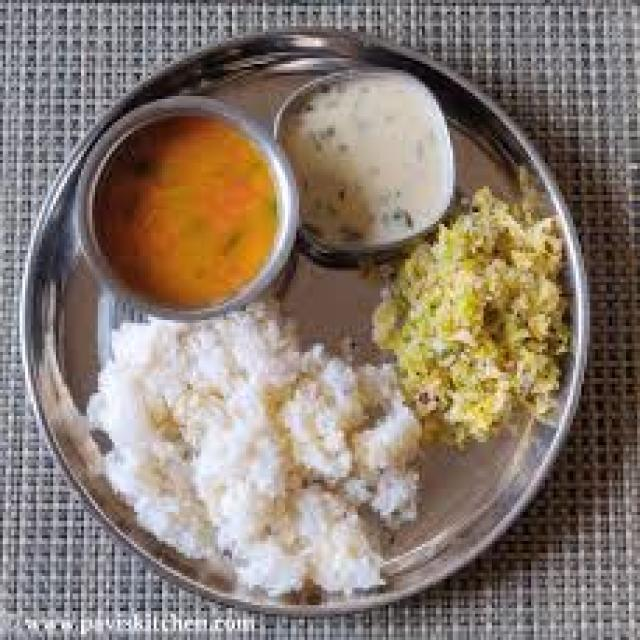dal: (88, 102, 291, 316), (274, 65, 456, 255)
rice: (364, 187, 576, 439), (102, 311, 268, 555)
